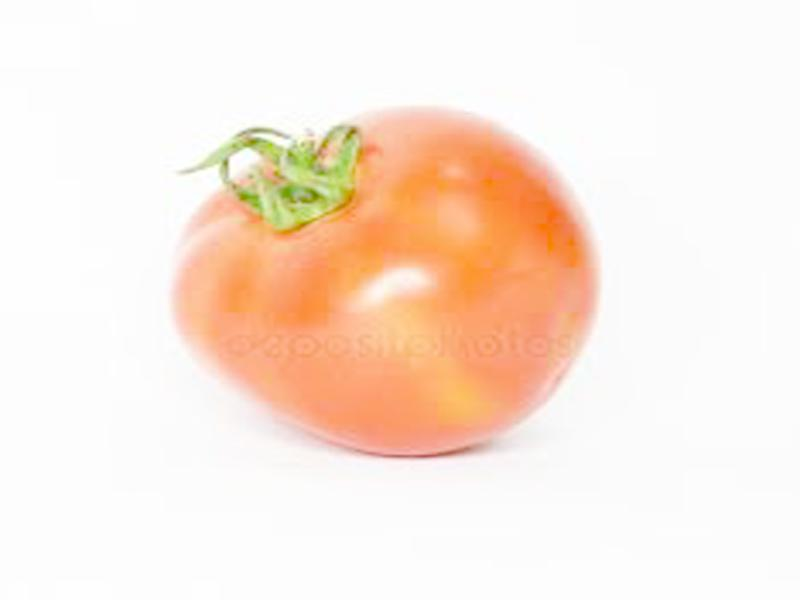Tomato: (171, 100, 598, 455)
